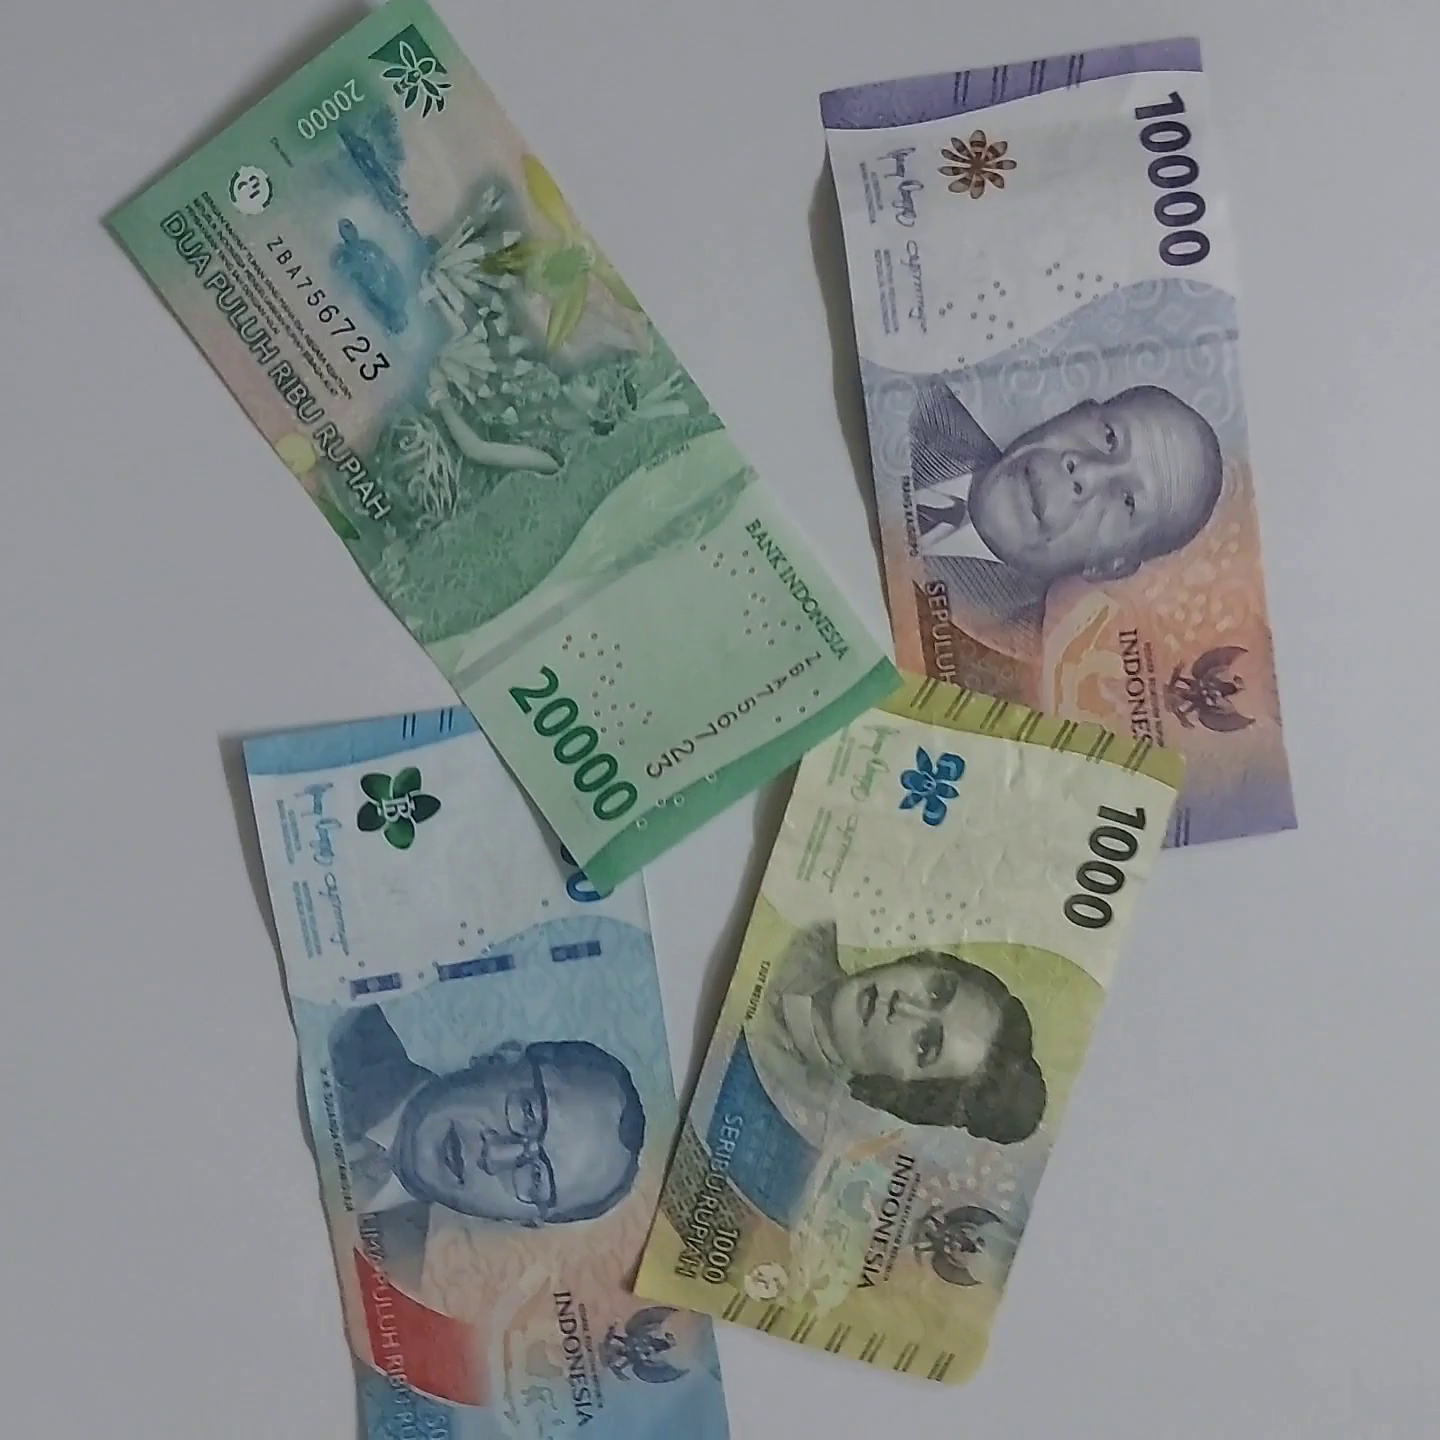10k: (793, 33, 1352, 855)
1k: (621, 707, 1226, 1403)
20k: (0, 0, 903, 799)
50k: (193, 696, 744, 1437)
